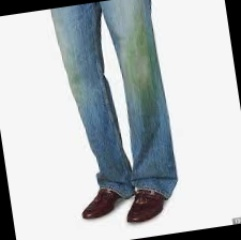earth: (125, 33, 157, 91)
